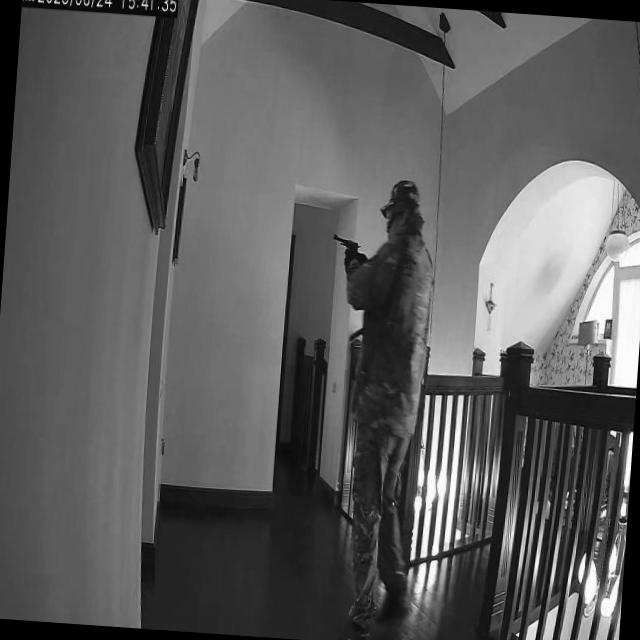gun: (331, 230, 361, 261)
person with a gun: (302, 174, 437, 640)
